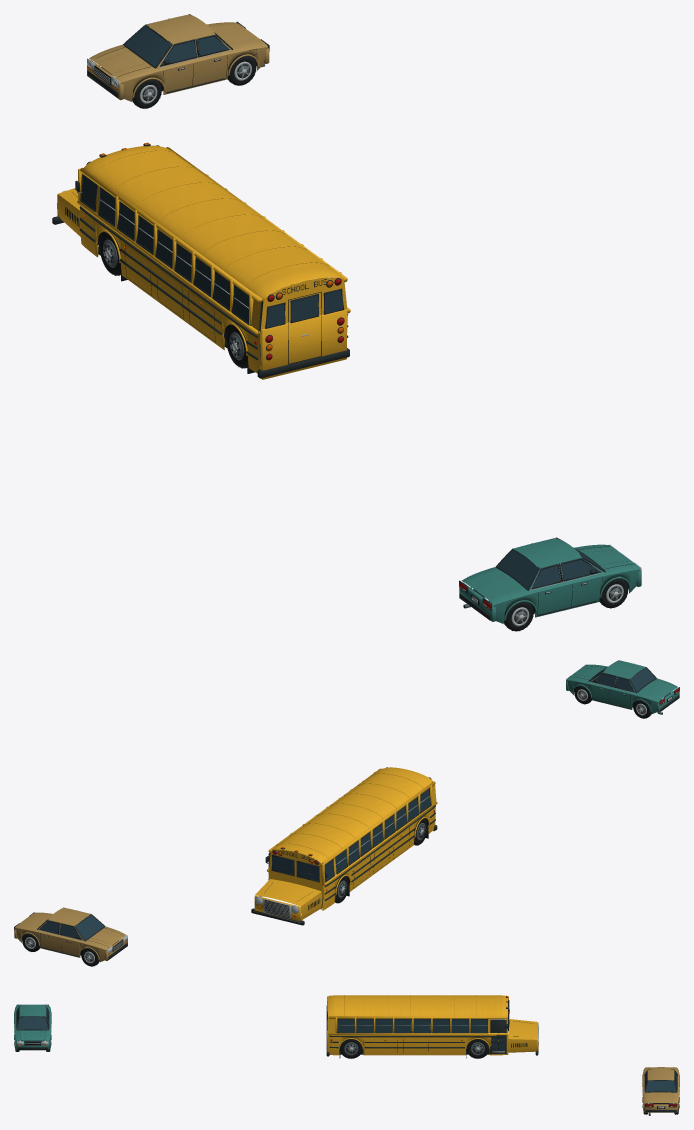
Rendered from vehicles-improved.glb.
3 renders of one model, top to bottom at view 1: azimuth 30°, elevation 25°; view 2: azimuth 150°, elevation 25°; view 3: azimuth 270°, elevation 25°, orthographic. The views are drawn at different scales.
Parts seen in each view (by area): view 1: Vehicle_bus_bus, Vehicle_south_south, Vehicle_north_north, Vehicle_bus_glass, Vehicle_bus_trim, Vehicle_north_glass, Vehicle_south_glass, Vehicle_south_trim, Vehicle_north_trim, Vehicle_bus_recess, Vehicle_north_rubber, Vehicle_south_rubber; view 2: Vehicle_bus_bus, Vehicle_south_south, Vehicle_north_north, Vehicle_bus_glass, Vehicle_bus_trim, Vehicle_north_glass, Vehicle_south_glass, Vehicle_bus_chrome, Vehicle_bus_recess, Vehicle_south_trim, Vehicle_north_trim; view 3: Vehicle_bus_bus, Vehicle_bus_glass, Vehicle_bus_trim, Vehicle_north_north, Vehicle_south_south, Vehicle_bus_rubber, Vehicle_south_glass, Vehicle_north_trim, Vehicle_north_glass, Vehicle_south_trim, Vehicle_bus_steel, Vehicle_bus_chrome (+1 smaller).
Part boxes in pixels (bbox=[...]): Vehicle_bus_bus: bbox=[57, 145, 350, 379]; Vehicle_south_south: bbox=[459, 538, 641, 623]; Vehicle_north_north: bbox=[87, 14, 269, 101]; Vehicle_bus_glass: bbox=[75, 175, 342, 327]; Vehicle_bus_trim: bbox=[52, 144, 349, 378]; Vehicle_north_glass: bbox=[124, 26, 228, 66]; Vehicle_south_glass: bbox=[497, 550, 600, 589]; Vehicle_south_trim: bbox=[459, 537, 626, 631]; Vehicle_north_trim: bbox=[87, 14, 269, 108]; Vehicle_bus_recess: bbox=[65, 192, 321, 364]; Vehicle_north_rubber: bbox=[101, 54, 256, 108]; Vehicle_south_rubber: bbox=[473, 576, 628, 631]; Vehicle_bus_bus: bbox=[254, 767, 437, 921]; Vehicle_south_south: bbox=[566, 660, 679, 713]; Vehicle_north_north: bbox=[14, 907, 127, 961]; Vehicle_bus_glass: bbox=[272, 789, 430, 880]; Vehicle_bus_trim: bbox=[251, 767, 437, 925]; Vehicle_north_glass: bbox=[40, 915, 104, 940]; Vehicle_south_glass: bbox=[592, 668, 655, 691]; Vehicle_bus_chrome: bbox=[255, 796, 429, 918]; Vehicle_bus_recess: bbox=[259, 818, 428, 917]; Vehicle_south_trim: bbox=[585, 660, 679, 718]; Vehicle_north_trim: bbox=[14, 907, 127, 964]; Vehicle_bus_bus: bbox=[327, 995, 538, 1056]; Vehicle_bus_glass: bbox=[337, 1019, 507, 1050]; Vehicle_bus_trim: bbox=[326, 996, 538, 1056]; Vehicle_north_north: bbox=[642, 1067, 679, 1112]; Vehicle_south_south: bbox=[14, 1004, 51, 1050]; Vehicle_bus_rubber: bbox=[339, 1039, 489, 1058]; Vehicle_south_glass: bbox=[16, 1008, 49, 1029]; Vehicle_north_trim: bbox=[644, 1069, 677, 1114]; Vehicle_north_glass: bbox=[644, 1072, 677, 1091]; Vehicle_south_trim: bbox=[16, 1004, 49, 1051]; Vehicle_bus_steel: bbox=[344, 1028, 538, 1055]; Vehicle_bus_chrome: bbox=[338, 1023, 538, 1053].
Size of the model in its own units: 12.59 by 2.99 by 35.61.
13 materials, 3 textured.
